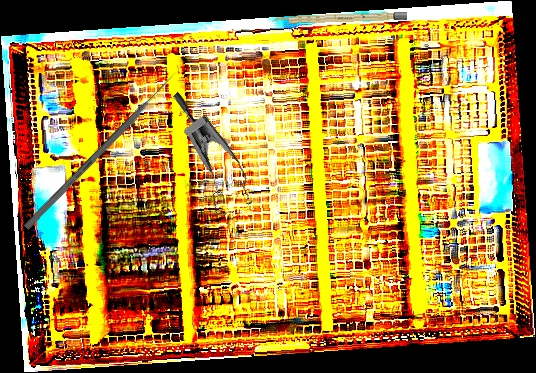Pusher: (23, 69, 180, 231)
Scalpel Handle: (271, 11, 408, 25)
Speculum: (134, 90, 274, 227)
